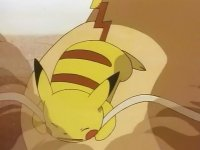pikachu: (30, 1, 149, 141)
